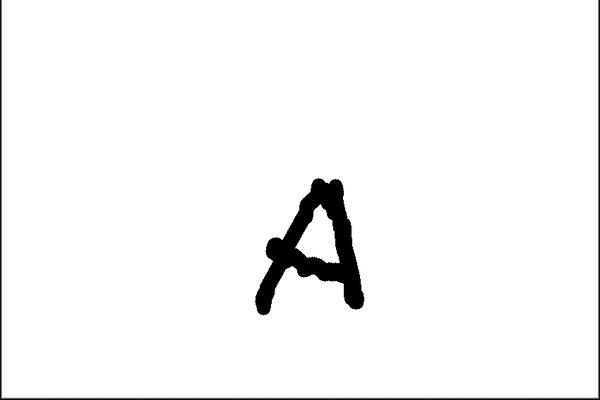A: (237, 165, 372, 321)
